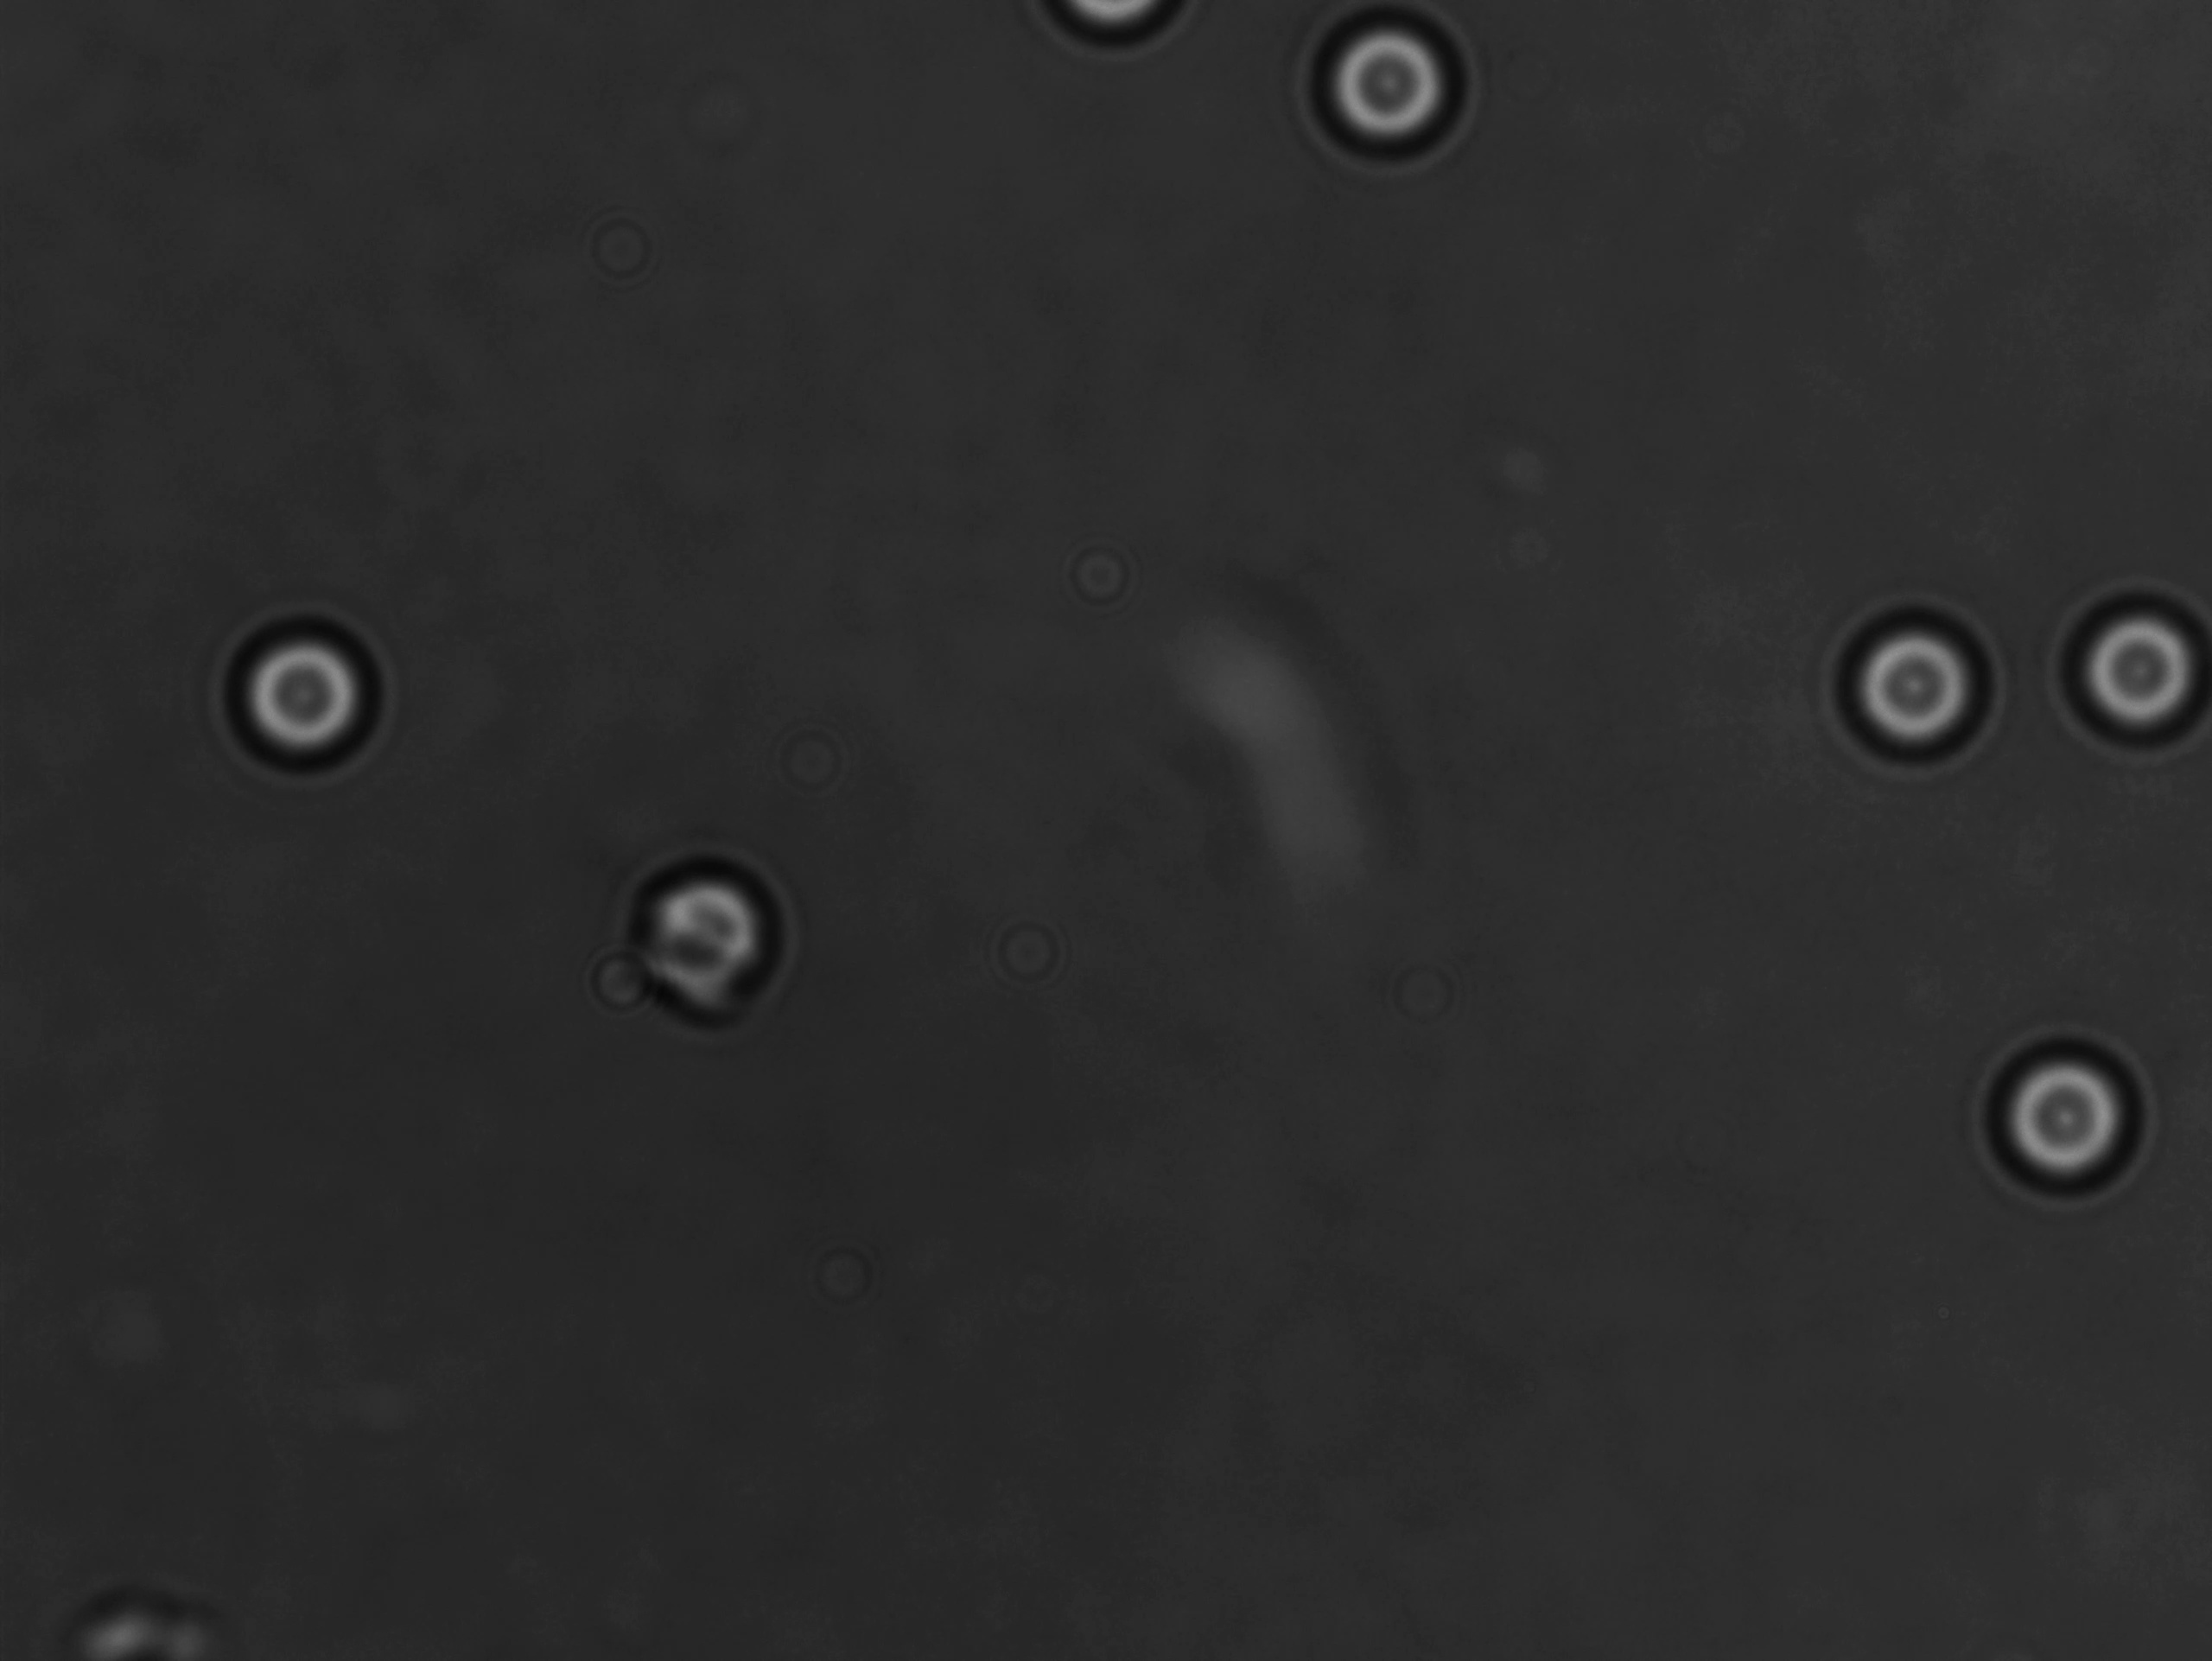depth:20: (1968, 1022, 2156, 1200), (1823, 579, 2001, 755), (218, 604, 398, 776), (2048, 579, 2212, 750), (1308, 9, 1467, 173)
